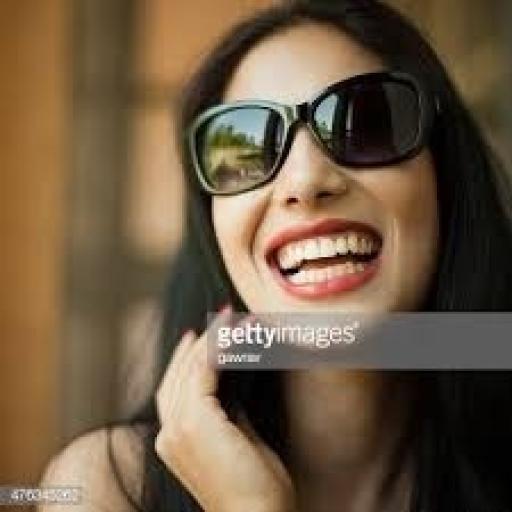laughing: (27, 0, 510, 510)
